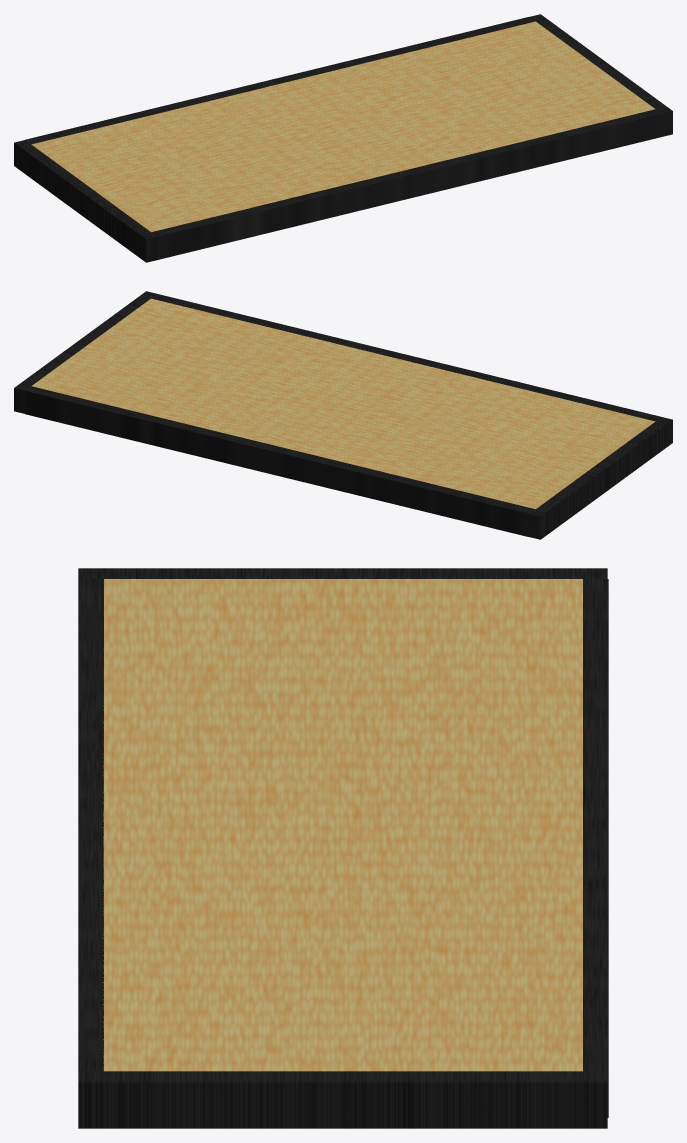
Rendered from tatami.glb.
3 renders of one model, top to bottom at view 1: azimuth 30°, elevation 25°; view 2: azimuth 150°, elevation 25°; view 3: azimuth 270°, elevation 25°, orthographic. The views are drawn at different scales.
Visible parts, largest first — view 1: tatami; view 2: tatami; view 3: tatami.
Boxes of the visible parts, x1,y1,x2,y2 form: tatami: [14, 14, 672, 262]; tatami: [14, 291, 672, 539]; tatami: [78, 568, 608, 1128].
Size of the model in its own units: 14.2 by 0.6 by 6.19.
2 materials, 2 textured.
